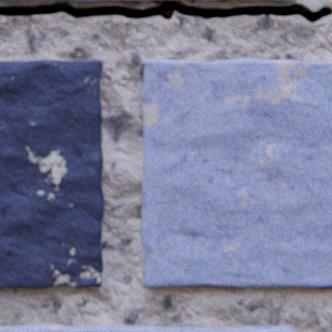brick: (140, 58, 331, 285), (0, 60, 104, 287), (0, 322, 294, 331), (0, 0, 154, 2), (269, 0, 294, 1), (195, 0, 215, 1)
crack: (0, 0, 331, 24)
